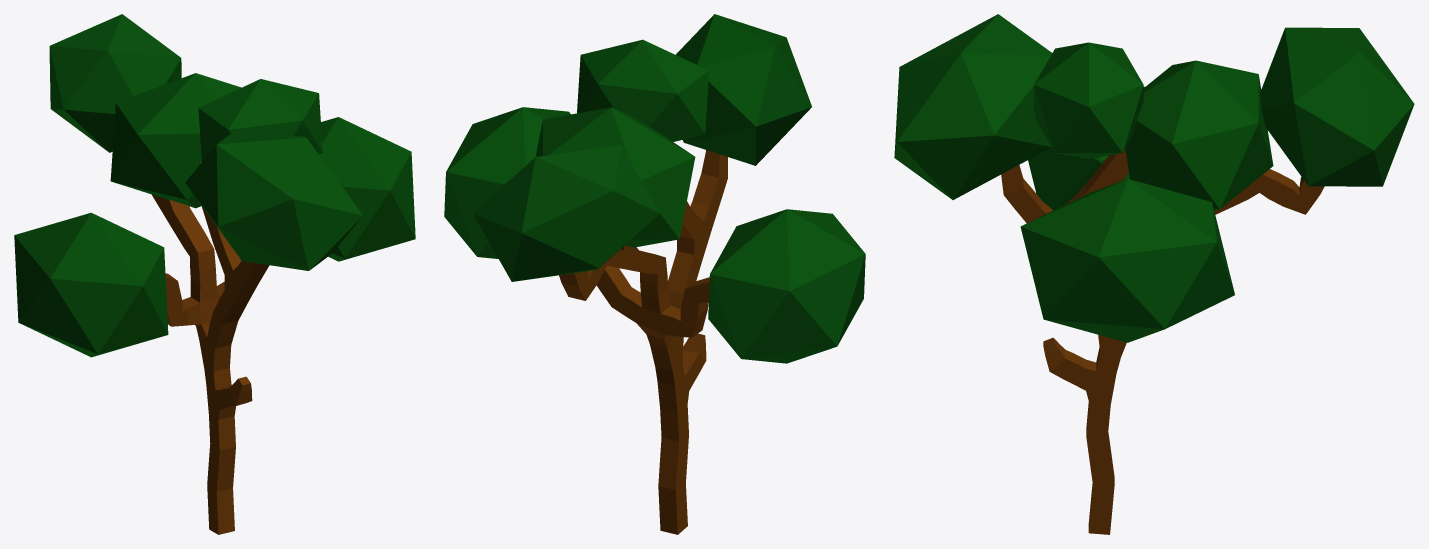
File: Small Tree.fbx
3 views of the same model, side by side, from view 1: azimuth 30°, elevation 25°; view 2: azimuth 150°, elevation 25°; view 3: azimuth 270°, elevation 25° (orthographic). The views are drawn at different scales.
Visible parts, largest first — view 1: Circle; view 2: Circle; view 3: Circle.
Part boxes in pixels (x1,y1,x2,y2): Circle: (14, 14, 415, 534); Circle: (444, 14, 865, 534); Circle: (894, 14, 1414, 534).
Bounding box in the file's own units: 348 × 404 × 376.
